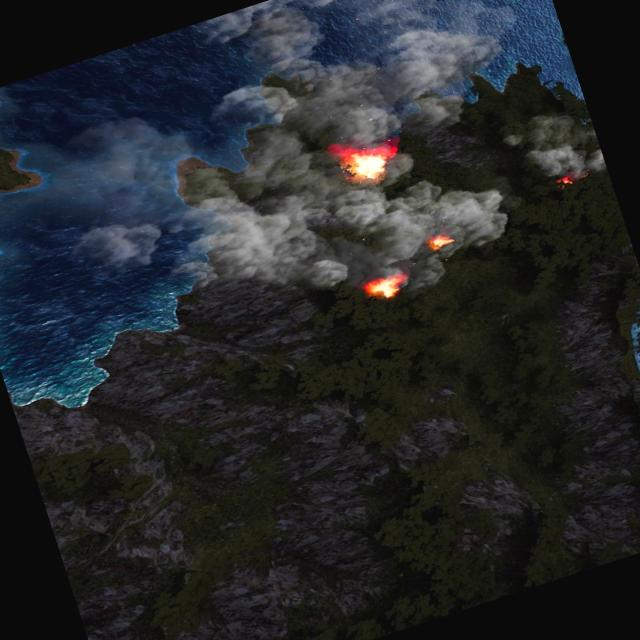fire: (325, 134, 398, 195), (362, 274, 404, 306), (427, 232, 454, 252), (556, 170, 578, 190)
smoke: (0, 0, 583, 396), (513, 97, 607, 193)
